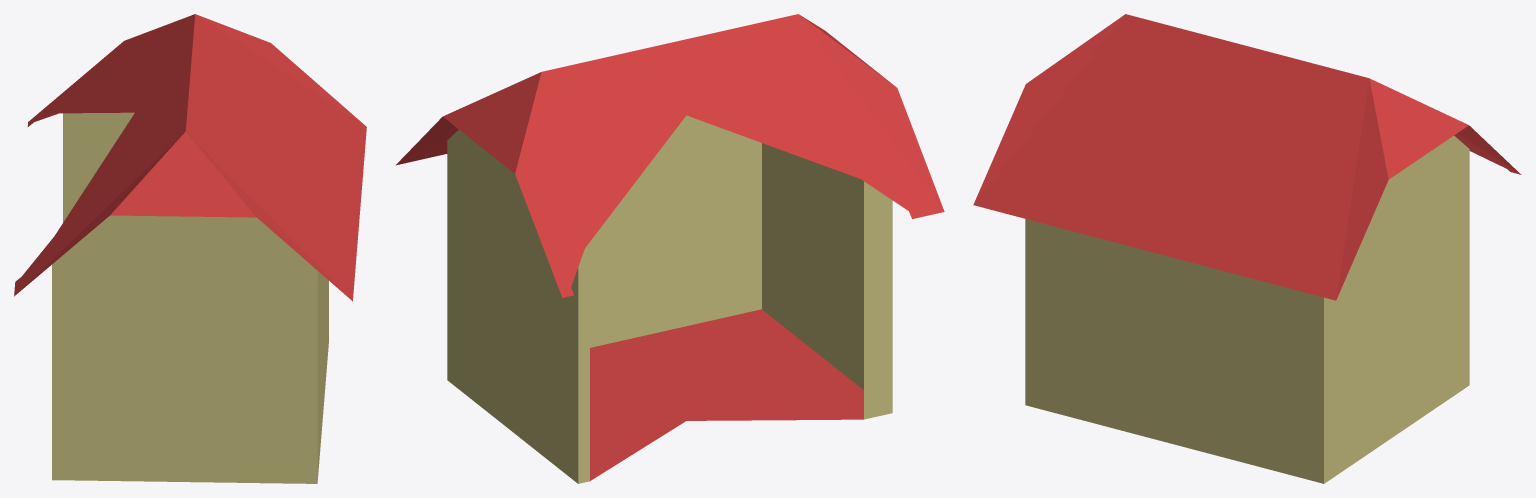
3 views of the same model, side by side, from view 1: azimuth 30°, elevation 25°; view 2: azimuth 150°, elevation 25°; view 3: azimuth 270°, elevation 25° (orthographic). The views are drawn at different scales.
Visible parts, largest first — view 1: group_5, group_3; view 2: group_5, group_3, group_6, group_4; view 3: group_5, group_3.
Part boxes in pixels (x1,y1,x2,y2): group_5: (52, 112, 328, 483); group_3: (14, 14, 366, 301); group_5: (447, 115, 892, 483); group_3: (396, 14, 944, 297); group_6: (590, 309, 863, 480); group_4: (553, 175, 943, 295); group_5: (1025, 136, 1469, 483); group_3: (973, 14, 1521, 300).
Size of the model in its own units: 20.76 by 21.74 by 15.27.
